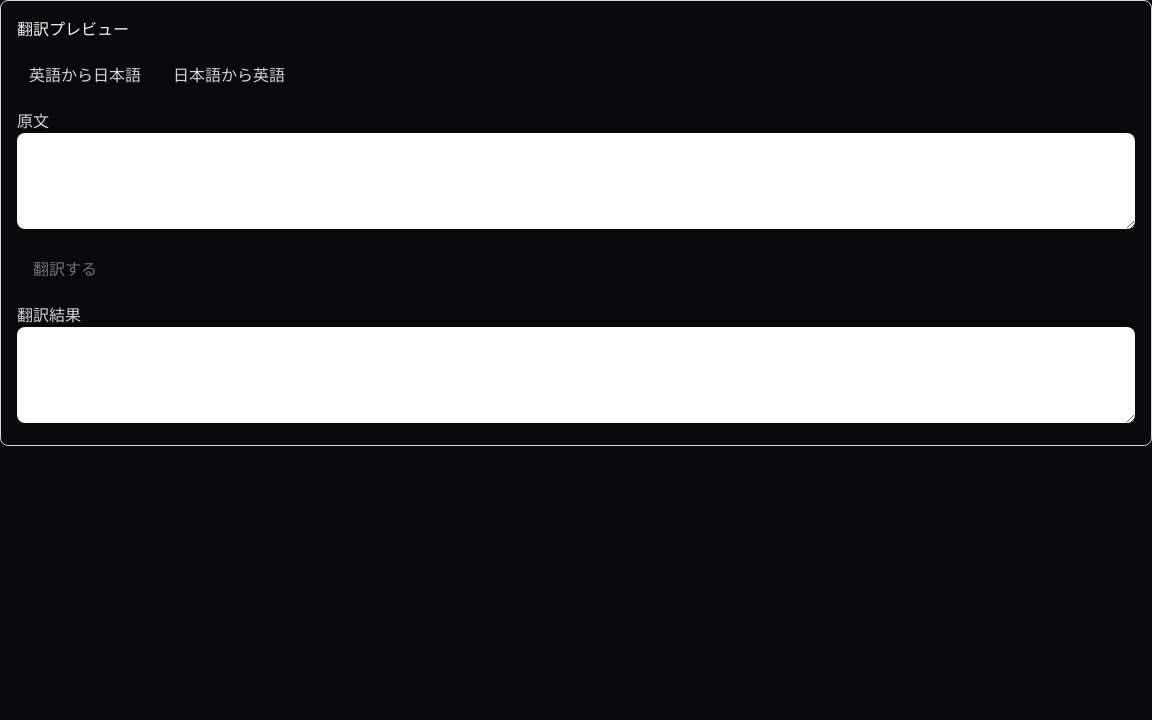
Test case: TranslationPreviewCard › announces errors and retries explicitly
In the text box labelled "原文": [576, 181] box [17, 133, 1135, 229], type "text"
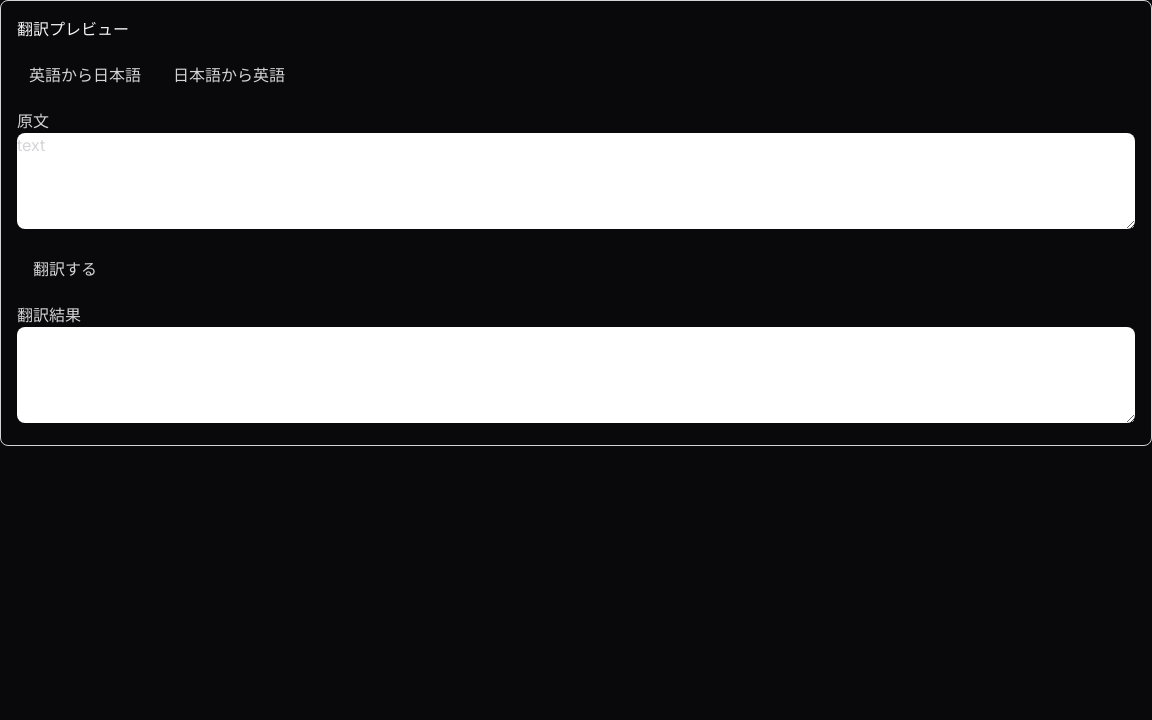
Click the button "翻訳する": [65, 269] box [17, 247, 113, 291]
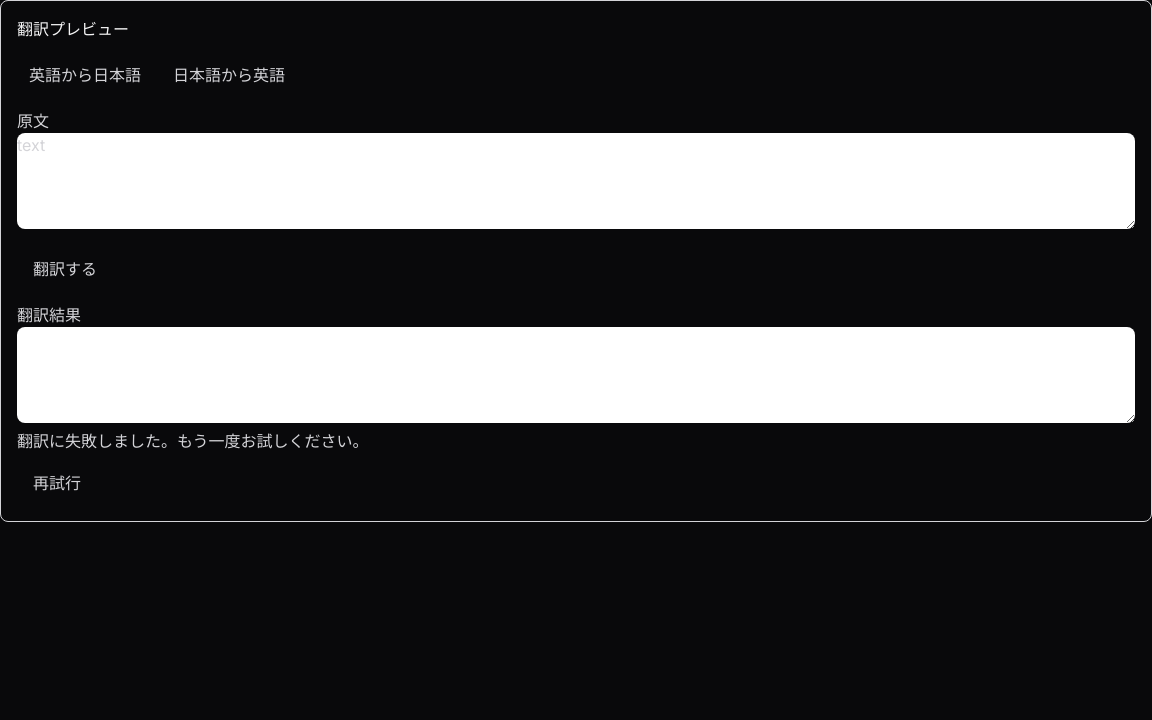
Check: the message shows "翻訳に失敗しました", box [17, 431, 368, 451]
Click the button "再試行": [57, 483] box [17, 461, 97, 505]
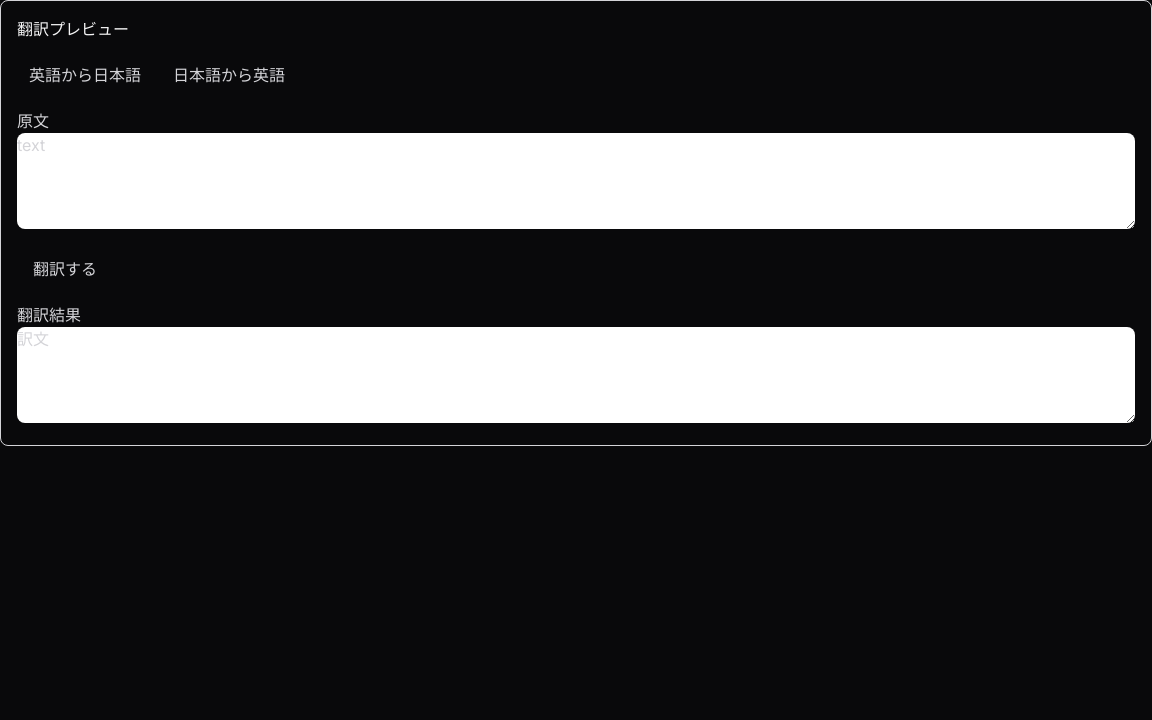
Check: the text box labelled "翻訳結果" holds "訳文", box [17, 327, 1135, 423]
